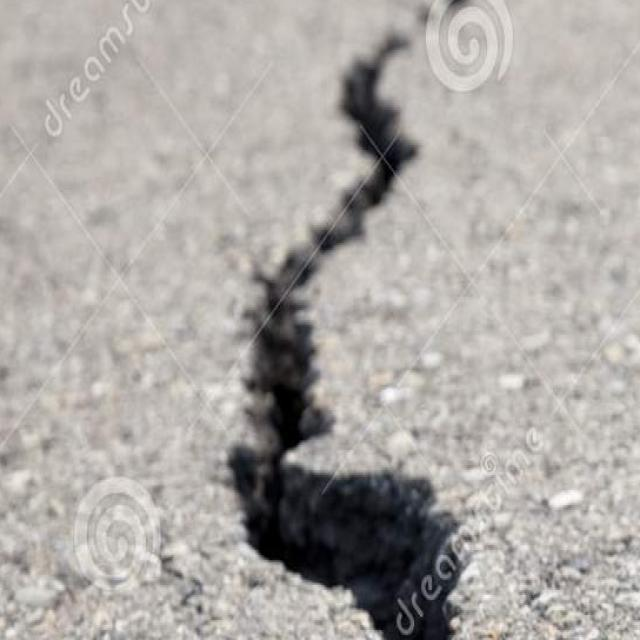Longitudinal: (233, 2, 488, 640)
